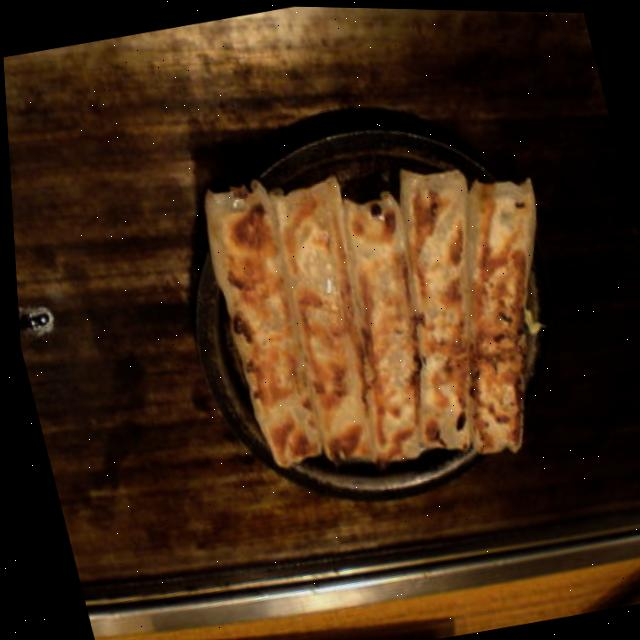带馅早点: (189, 3, 579, 447)
